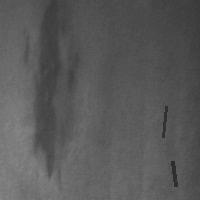inclusion: (27, 1, 79, 183), (161, 104, 168, 139), (170, 159, 177, 188)
